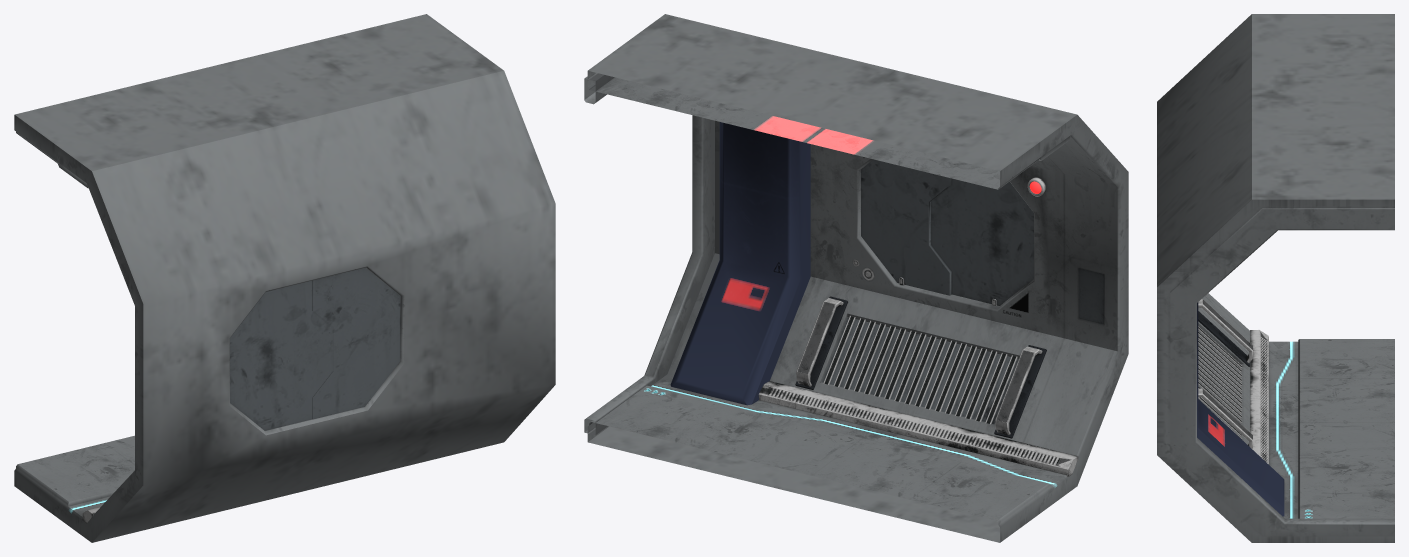
The model's file is sci-fi_wall.glb.
3 views of the same model, side by side, from view 1: azimuth 30°, elevation 25°; view 2: azimuth 150°, elevation 25°; view 3: azimuth 270°, elevation 25° (orthographic). The views are drawn at different scales.
Parts seen in each view (by area): view 1: Env_Wall3; view 2: Env_Wall3; view 3: Env_Wall3.
Part boxes in pixels (x1,y1,x2,y2): Env_Wall3: (14,14,555,542); Env_Wall3: (584,14,1128,542); Env_Wall3: (1157,14,1394,542).
Size of the model in its own units: 4.49 by 3.83 by 2.41.
1 material, 1 textured.
